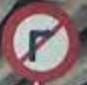Cam re: (3, 4, 77, 80)
